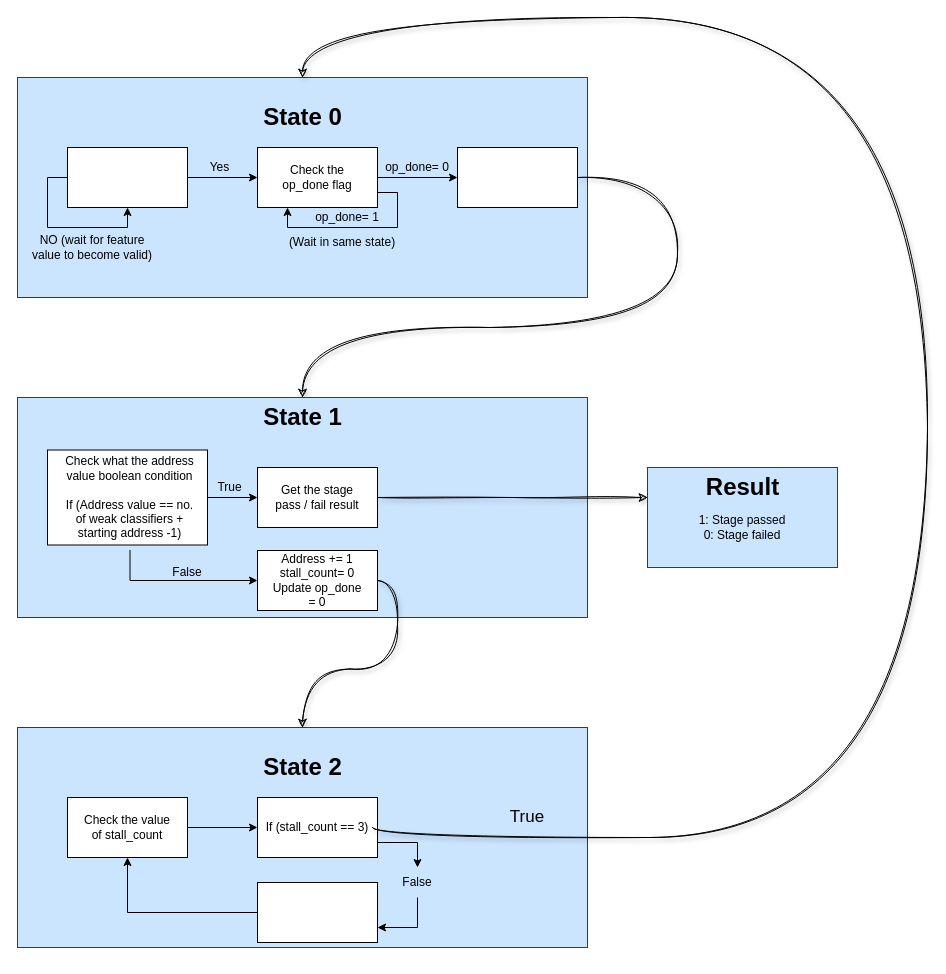
The diagram is 946 pixels wide and 974 high, and some of its shapes have lost their labels. The shapes that lost their labels are listed below. From the top down, each one's centre as x and y in pixels, then its label:
(127,177): Get the feature value and then check if it is valid
(517,177): Update the stage value (s = s + f) and Make op_done = 1
(317,912): stall_count + 1
